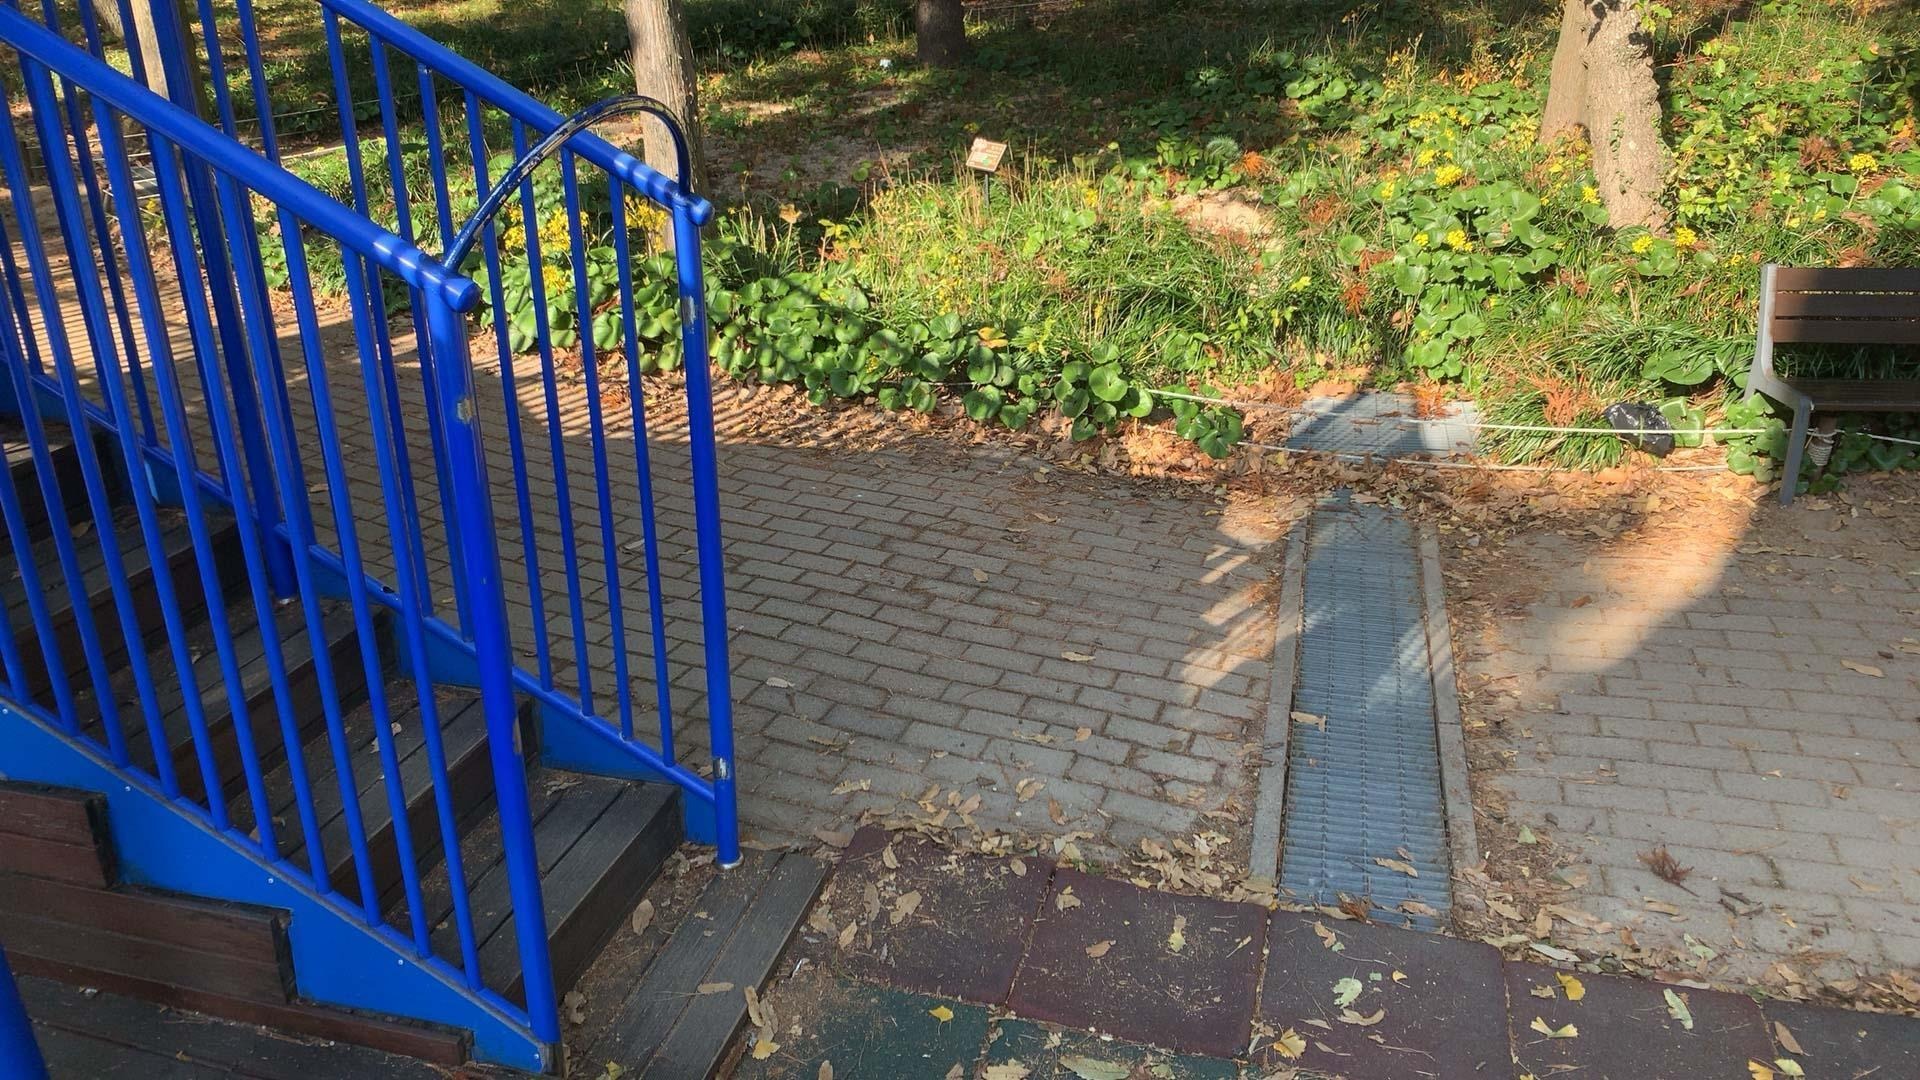black_bag: (1601, 394, 1680, 458)
